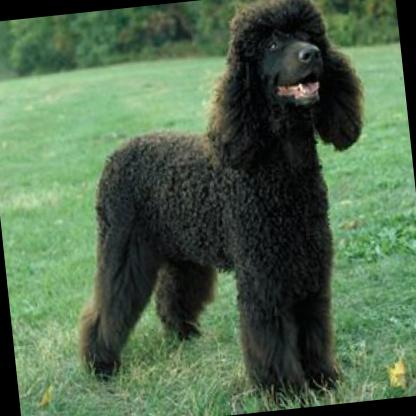Irish_water_spaniel: (46, 0, 391, 416)
